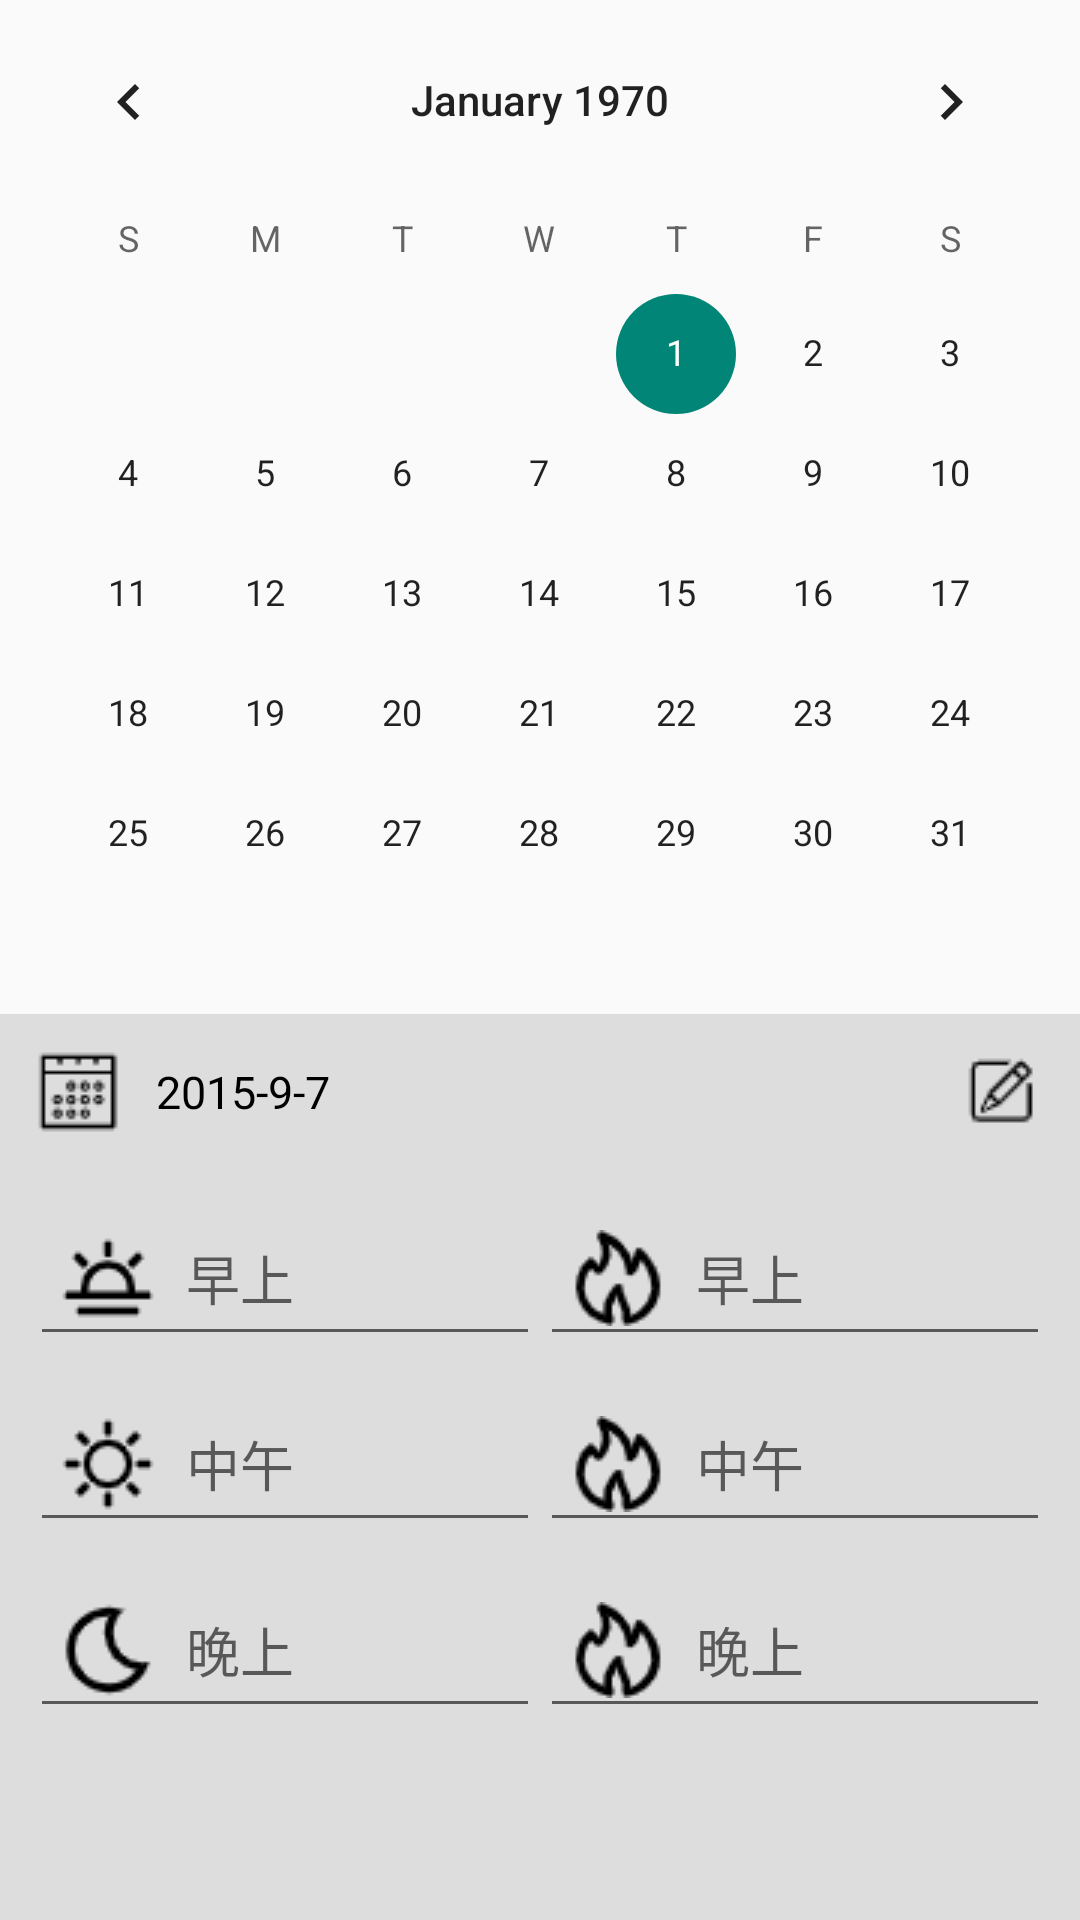

Point at icon controls on the screen. Image size 1080*1920, points as point (x, y).
edit: point (1001, 1091)
